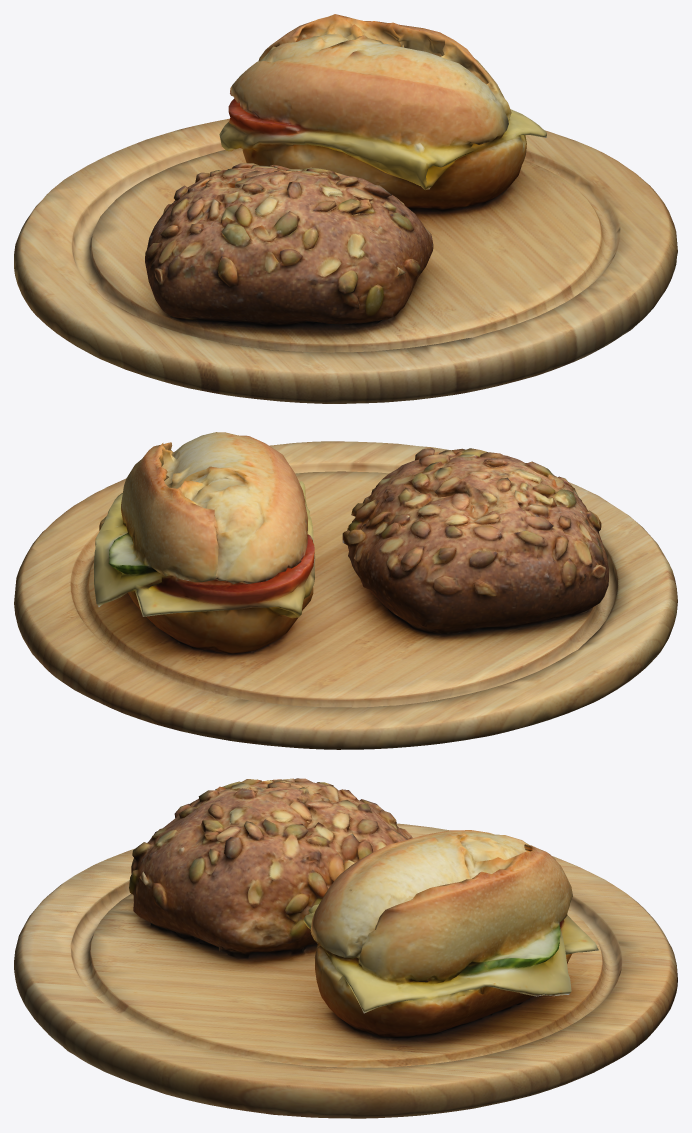
File: bread_BakedUV.obj
3 views of the same model, one above another, from view 1: azimuth 30°, elevation 25°; view 2: azimuth 150°, elevation 25°; view 3: azimuth 270°, elevation 25° (orthographic).
Size of the model in its own units: 46.19 by 12.92 by 46.04.
Materials: 1 (1 with a texture image).
